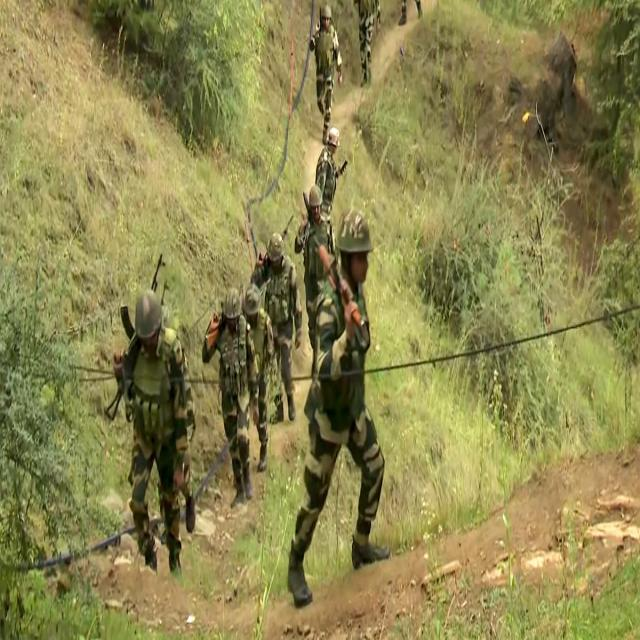Forest: (0, 1, 640, 640), (12, 20, 636, 624)
Militant: (283, 182, 396, 594), (102, 269, 200, 577), (210, 262, 262, 513), (260, 215, 303, 426), (309, 118, 346, 268), (309, 5, 346, 133)
